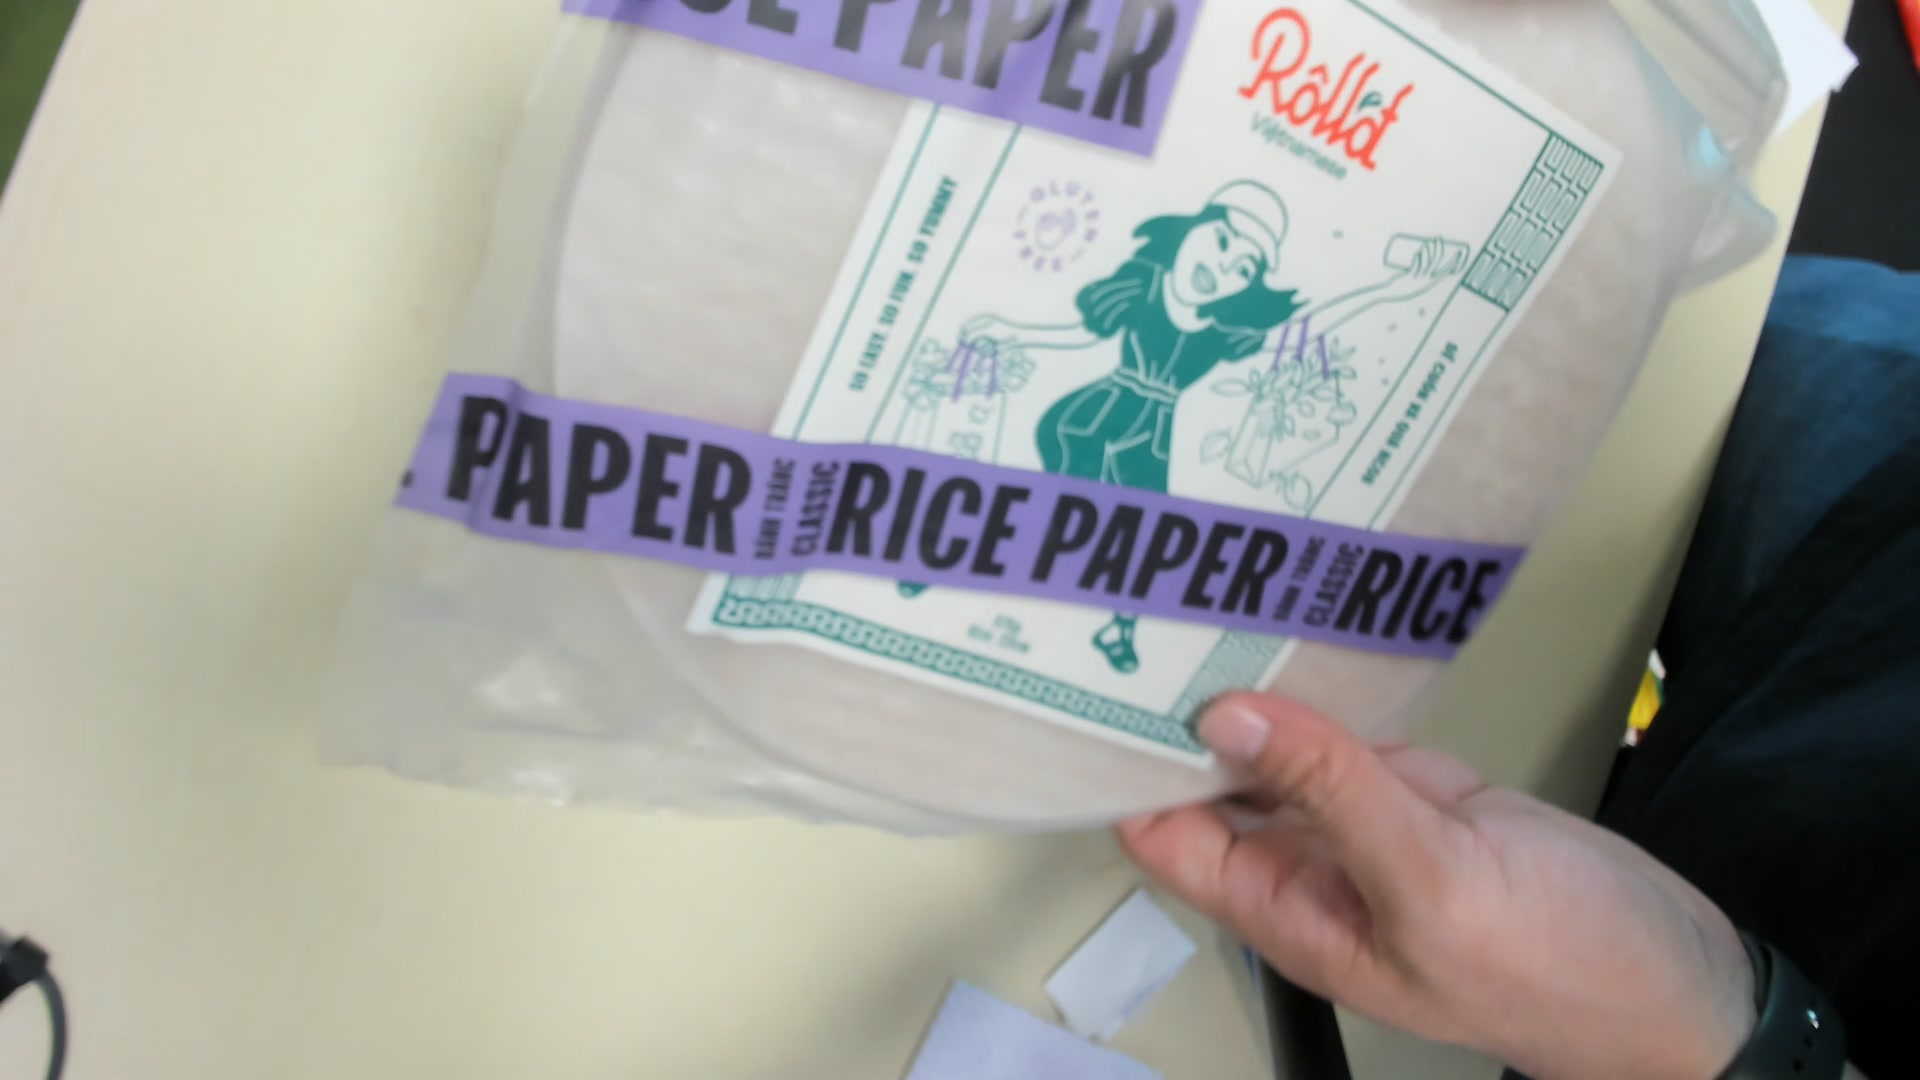InstantMeals_300_399g_NonHalal_NonHealthy: (353, 3, 1787, 829)
